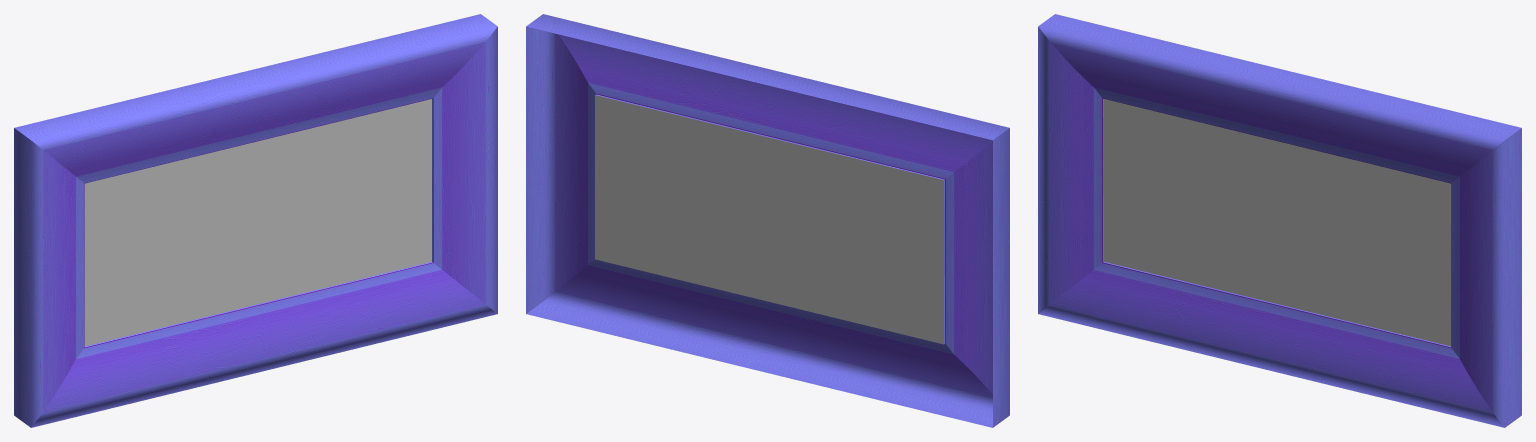
The picture shows the model from 3 angles, left to right: view 1: azimuth 30°, elevation 25°; view 2: azimuth 150°, elevation 25°; view 3: azimuth 330°, elevation 25°; orthographic projection.
Visible parts, largest first — view 1: _14_25_frame, _14_25; view 2: _14_25_frame, _14_25; view 3: _14_25_frame, _14_25.
Part boxes in pixels (box(x1,y1,x2,y2)): _14_25_frame: box(14, 14, 497, 427); _14_25: box(84, 99, 431, 346); _14_25_frame: box(526, 14, 1009, 427); _14_25: box(595, 95, 943, 344); _14_25_frame: box(1038, 14, 1521, 427); _14_25: box(1104, 99, 1451, 346).
Bounding box in the file's own units: 80.28 × 47.28 × 5.06.
